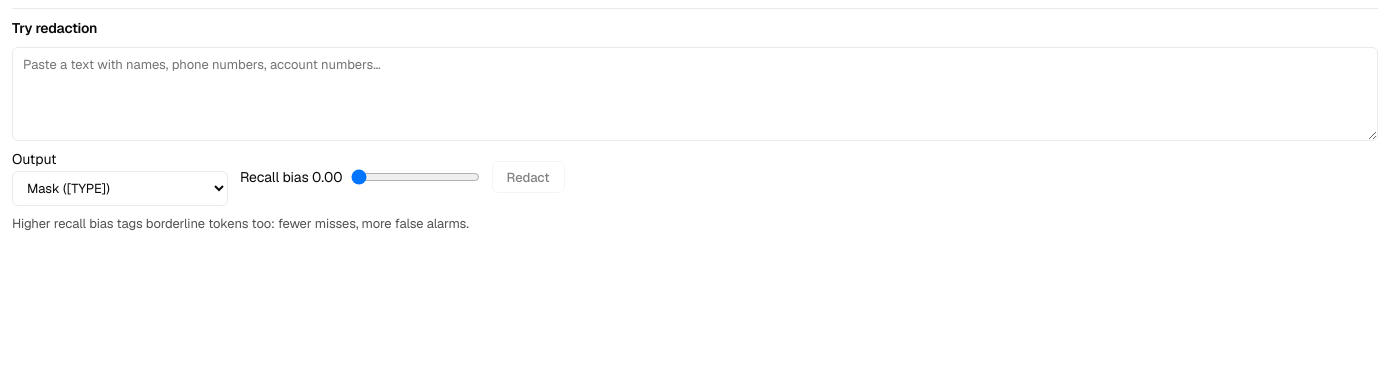
Test case: RedactionTryBox › sends the text, mode and recall bias and shows the masked text with scored spans
Check: the button "Redact" is disabled, box [492,161,564,193]
Type "call 555-0101 and ask Ada Lovelace" into the text box named "Text to redact" at (695, 94), box [12,47,1378,141]
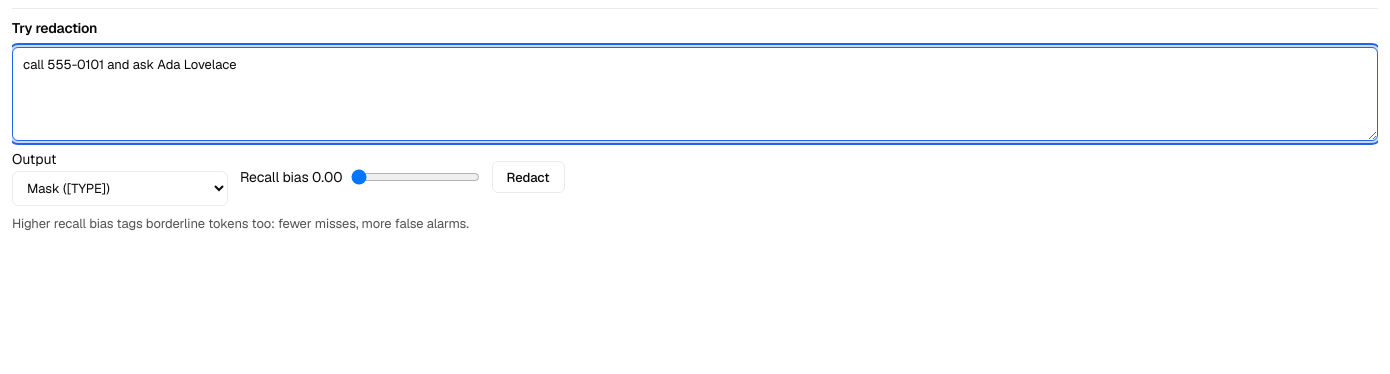
Set the slider labelled "Recall bias" to "0.2" at (404, 177), box [351,169,480,185]
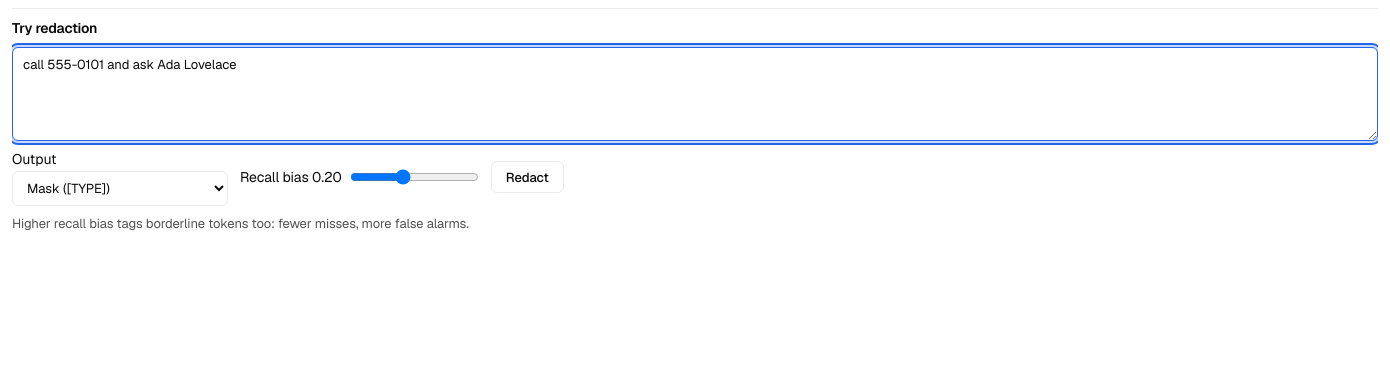
Click the button "Redact" at (527, 177), box [491,161,564,193]
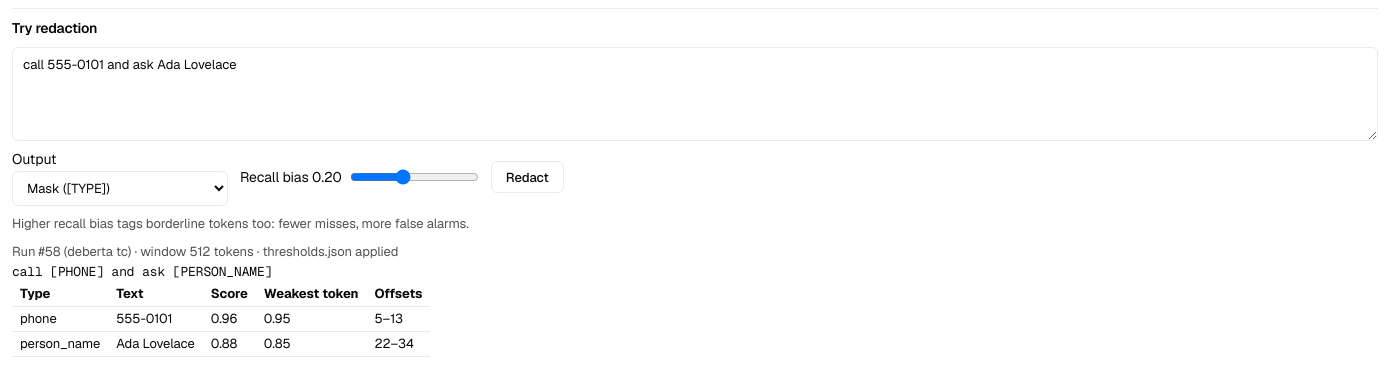
Check: the text with test id "redaction-try-output" reads "call [PHONE] and ask [PERSON_NAME]", box [12,263,272,280]
Check: the text "Ada Lovelace" is shown, box [108,332,203,357]
Check: the text "0.96" is shown, box [203,307,256,332]
